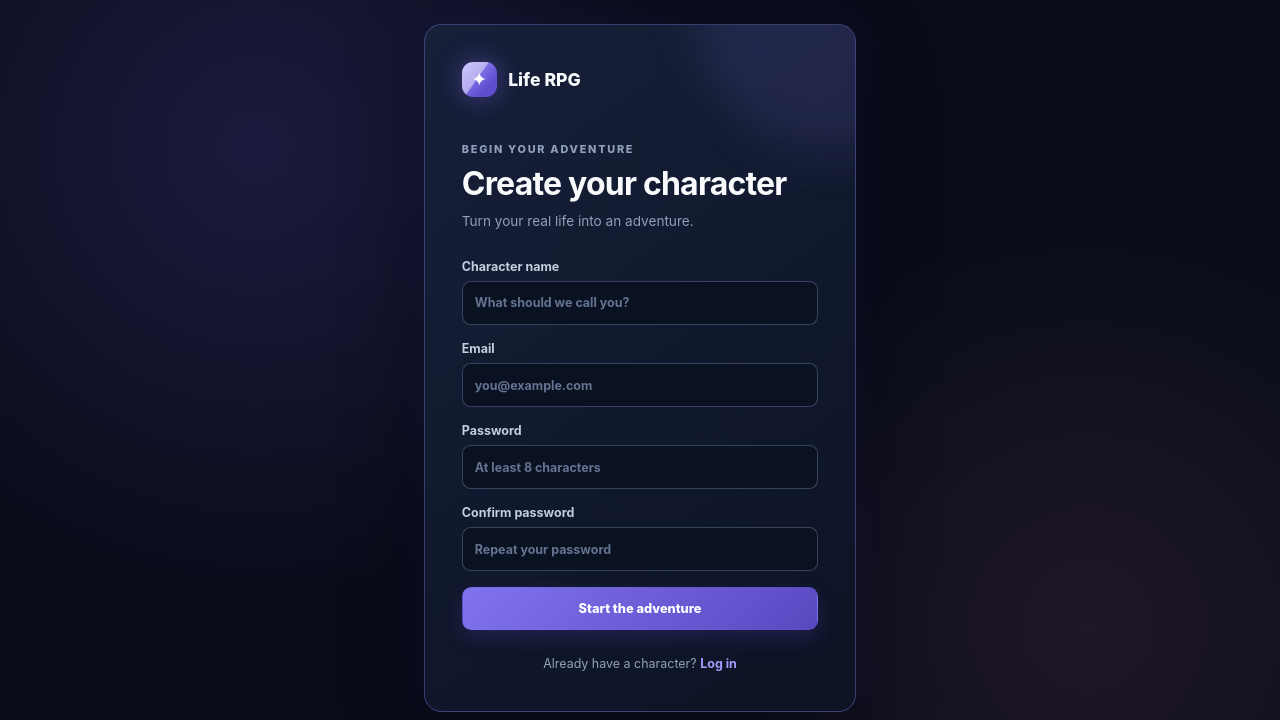
Test: Signup page › submits a valid character registration
Type "New Hero" into the field labelled "Character name" at coordinates (640, 303), box 462,281 -> 818,325
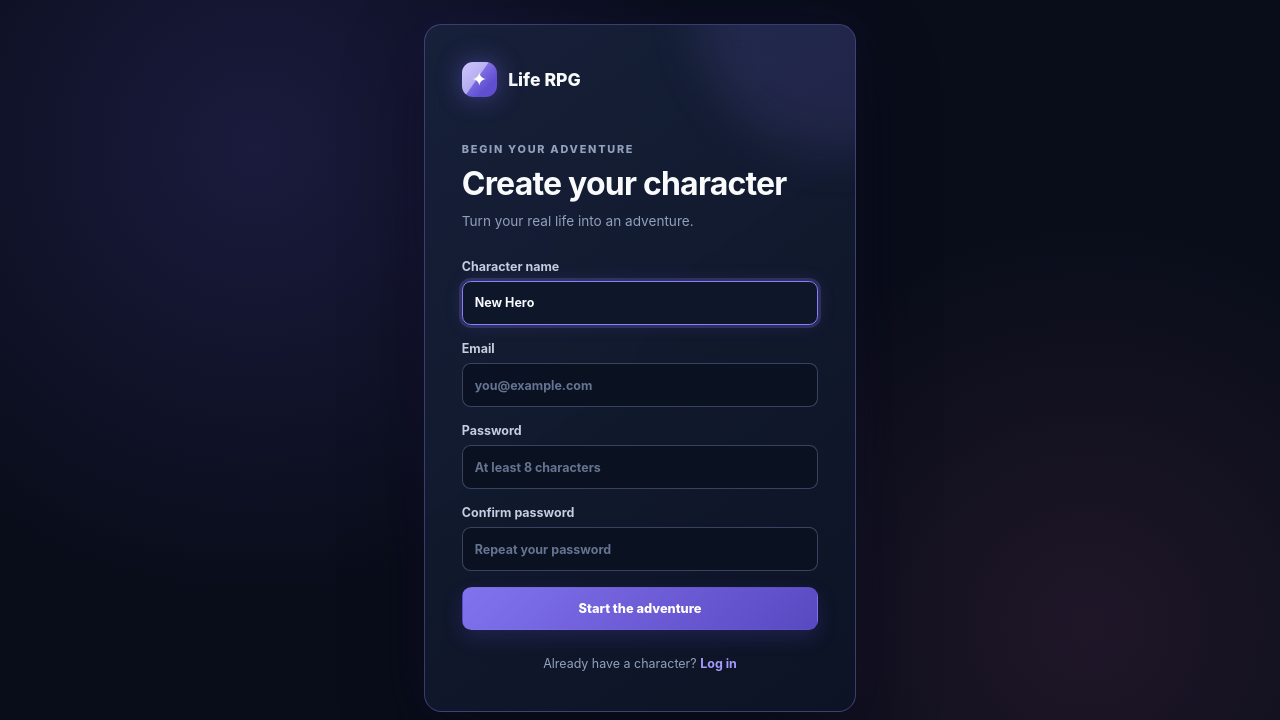
Type "hero@example.com" into the field labelled "Email" at coordinates (640, 385), box 462,363 -> 818,407
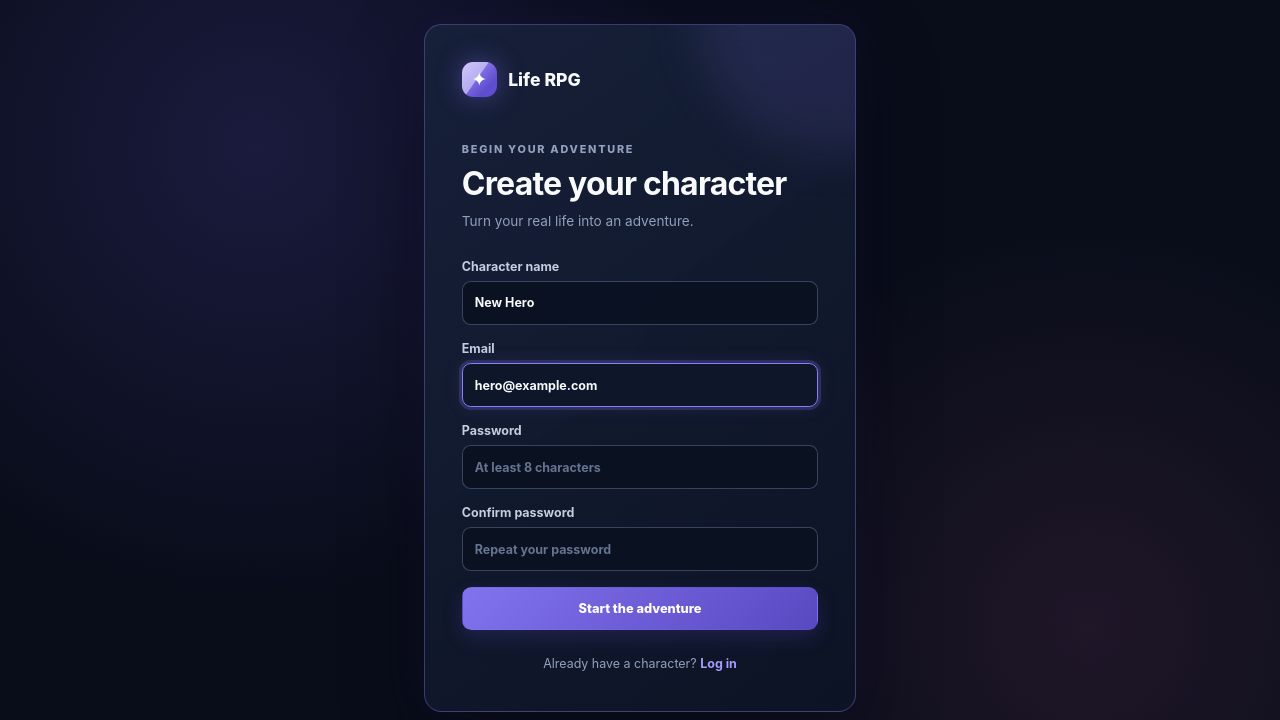
Type "password" into the password field labelled "Password" at coordinates (640, 467), box 462,445 -> 818,489
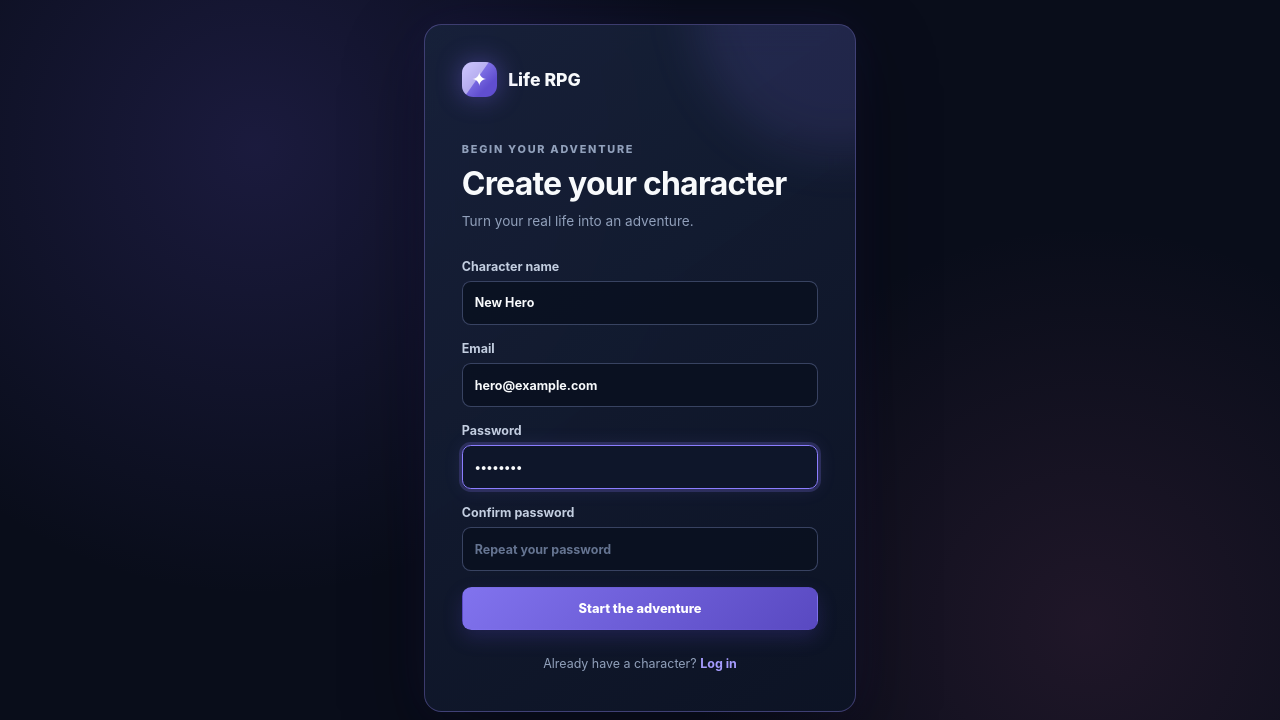
Type "password" into the password field labelled "Confirm password" at coordinates (640, 550), box 462,528 -> 818,572
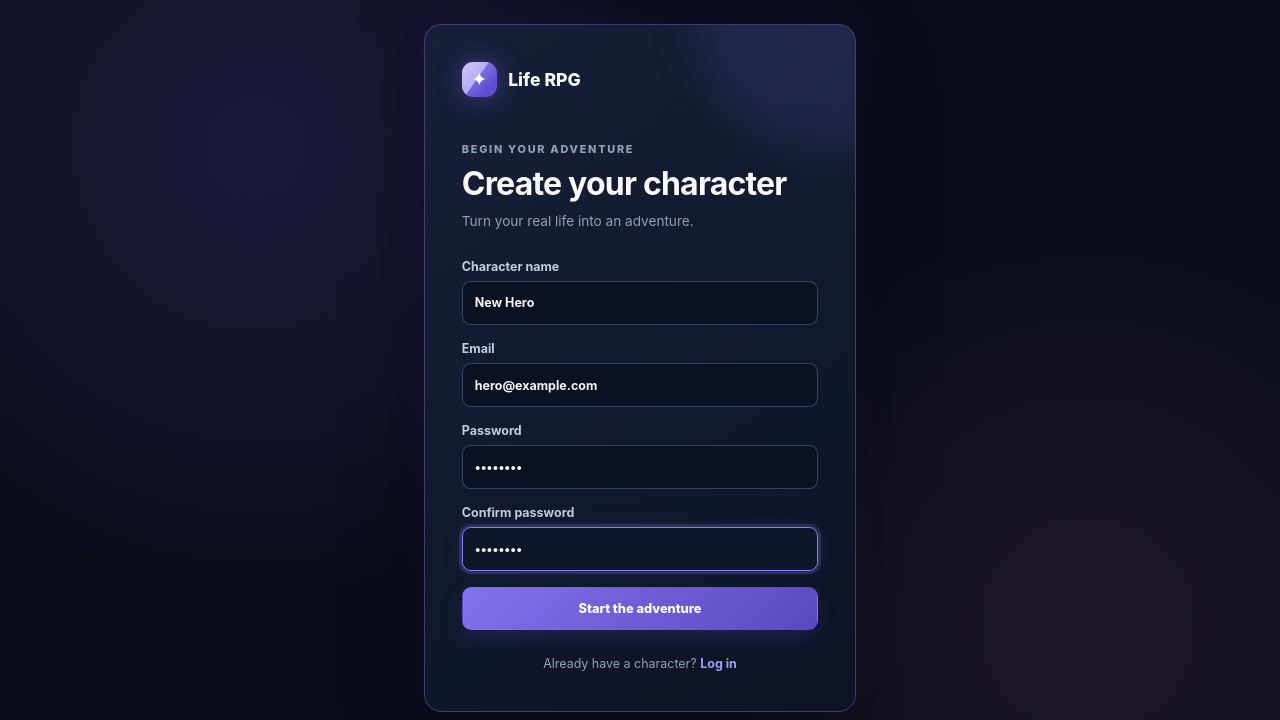
Click the button "Start the adventure" at coordinates (640, 609), box 462,588 -> 818,630
(page scrolled)
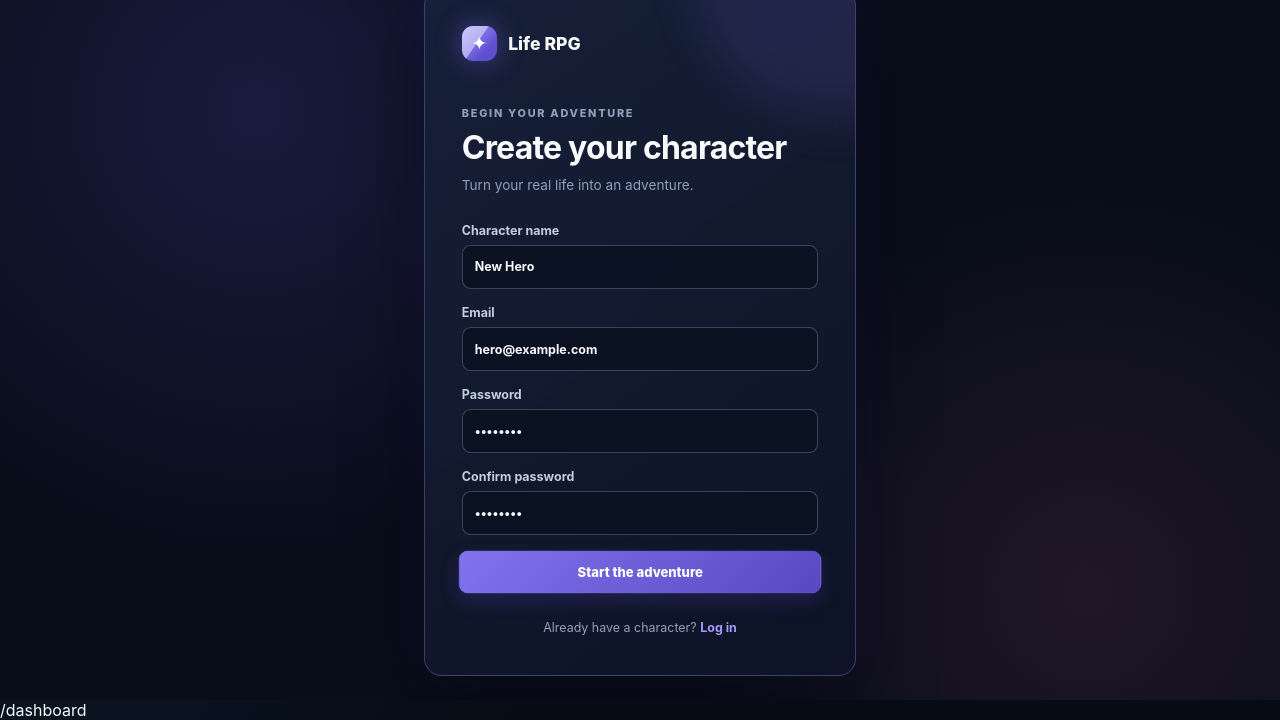
Now the text with test id "location" reads "/dashboard", box 0,700 -> 86,719
